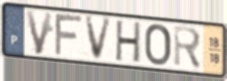F: (53, 14, 85, 58)
H: (114, 19, 142, 66)
O: (144, 22, 172, 67)
R: (173, 24, 204, 72)
V: (24, 9, 55, 57), (83, 16, 114, 62)
